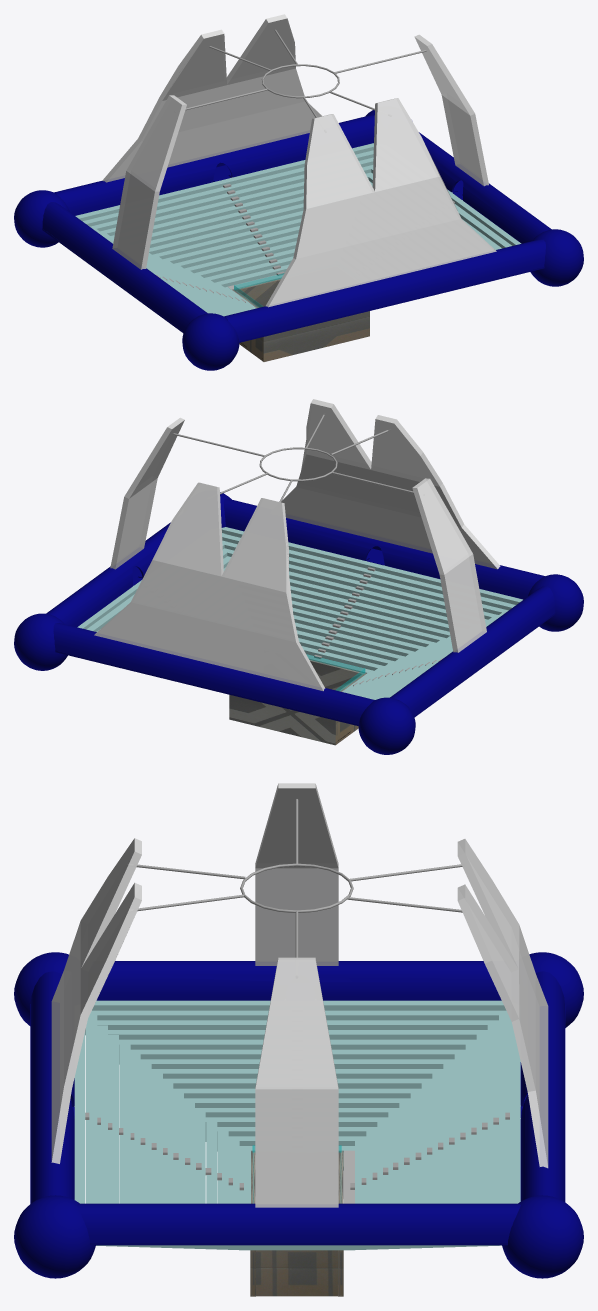
Rendered from court.fbx.
The picture shows the model from 3 angles, top to bottom: view 1: azimuth 30°, elevation 25°; view 2: azimuth 150°, elevation 25°; view 3: azimuth 270°, elevation 25°; orthographic projection. The views are drawn at different scales.
Parts seen in each view (by area): view 1: polySurface7, pasted__pCube6, polySurface13, pasted__pasted__pCube6, pCube7, polySurface8, pasted__pCube7, polySurface17; view 2: polySurface7, pasted__pasted__pCube6, polySurface13, pasted__pCube6, pCube7, polySurface8, pasted__pCube7, polySurface15; view 3: polySurface13, polySurface7, pasted__pCube7, pCube7, pasted__pasted__pCube6, pasted__pCube6, polySurface8, pTorus1, polySurface17.
Boxes of the visible parts, x1,y1,x2,y2 form: polySurface7: (14, 110, 583, 370); pasted__pCube6: (265, 98, 496, 307); polySurface13: (75, 143, 521, 316); pasted__pasted__pCube6: (102, 14, 322, 182); pCube7: (112, 95, 186, 269); polySurface8: (232, 278, 369, 361); pasted__pCube7: (414, 34, 488, 186); polySurface17: (223, 183, 284, 275); polySurface7: (14, 492, 583, 754); pasted__pasted__pCube6: (94, 482, 325, 691); polySurface13: (77, 527, 522, 699); pasted__pCube6: (281, 399, 500, 569); pCube7: (412, 478, 486, 652); polySurface8: (229, 659, 366, 745); pasted__pCube7: (110, 417, 184, 569); polySurface15: (314, 567, 375, 658); polySurface13: (74, 1000, 520, 1250); polySurface7: (14, 952, 583, 1278); pasted__pCube7: (255, 957, 338, 1207); pCube7: (255, 783, 338, 965); pasted__pasted__pCube6: (457, 839, 548, 1168); pasted__pCube6: (51, 838, 141, 1163); polySurface8: (250, 1151, 343, 1296); pTorus1: (240, 863, 353, 912); polySurface17: (350, 1112, 509, 1189).
Bounding box in the file's own units: 238 × 156 × 206.
